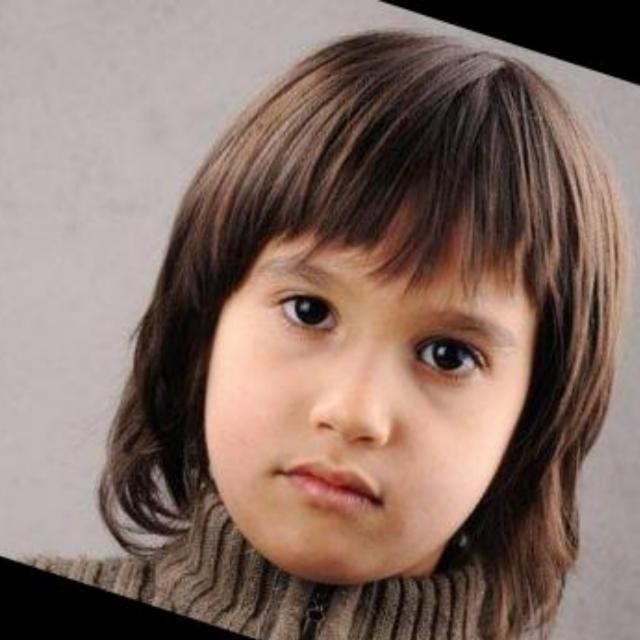Natural: (184, 146, 565, 615)
